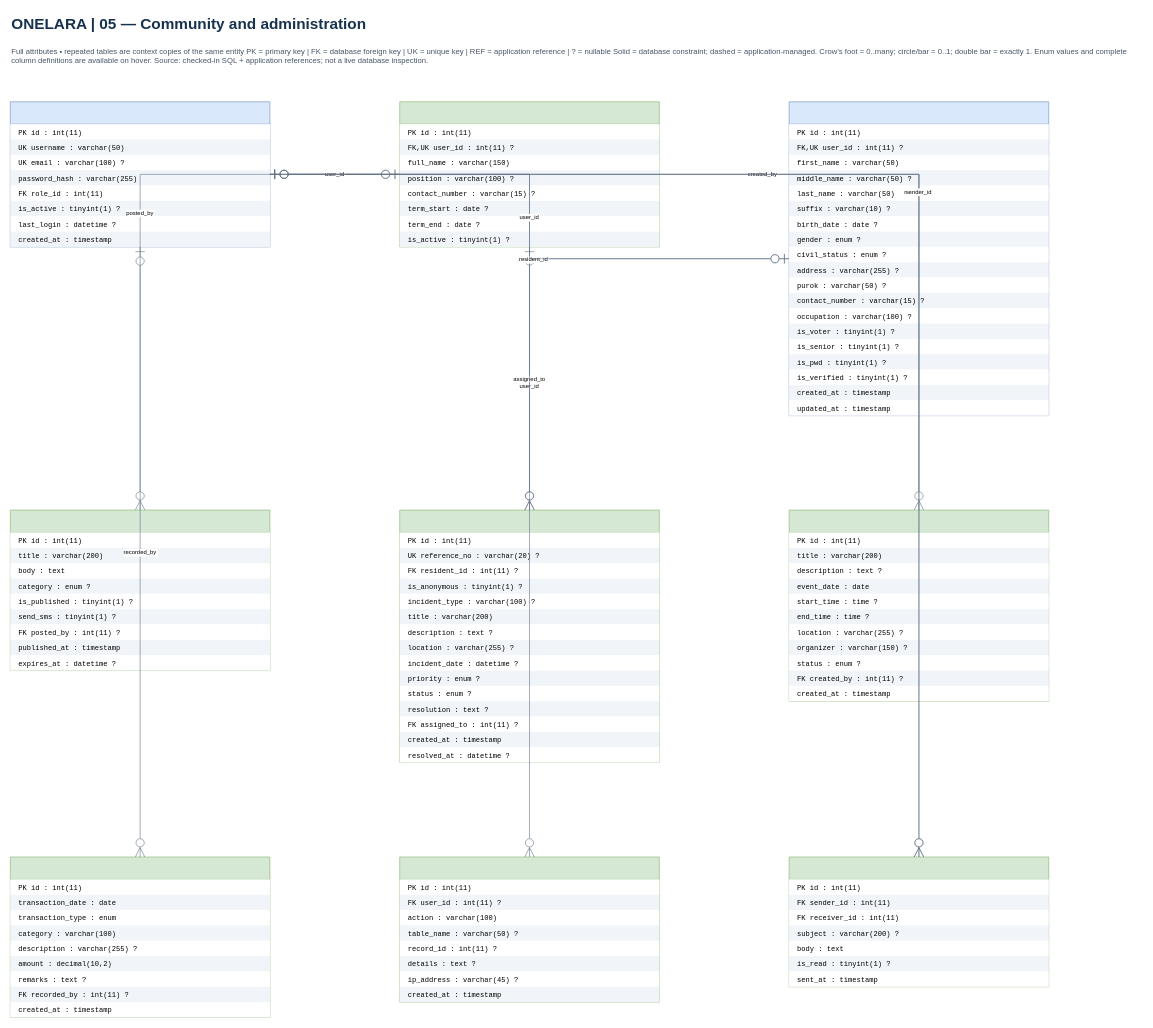
Some shapes in this 1153 by 1028 pixel diagram are drawn without their labels. Each missing label, with the box of its shape:
activity_logs: (399, 856, 659, 1002)
announcements: (10, 509, 270, 671)
barangay_officials: (399, 101, 659, 247)
events: (789, 509, 1049, 701)
financial_records: (10, 856, 270, 1017)
incident_reports: (399, 509, 659, 763)
messages: (789, 856, 1049, 987)
residents: (789, 101, 1049, 416)
users: (10, 101, 270, 247)
